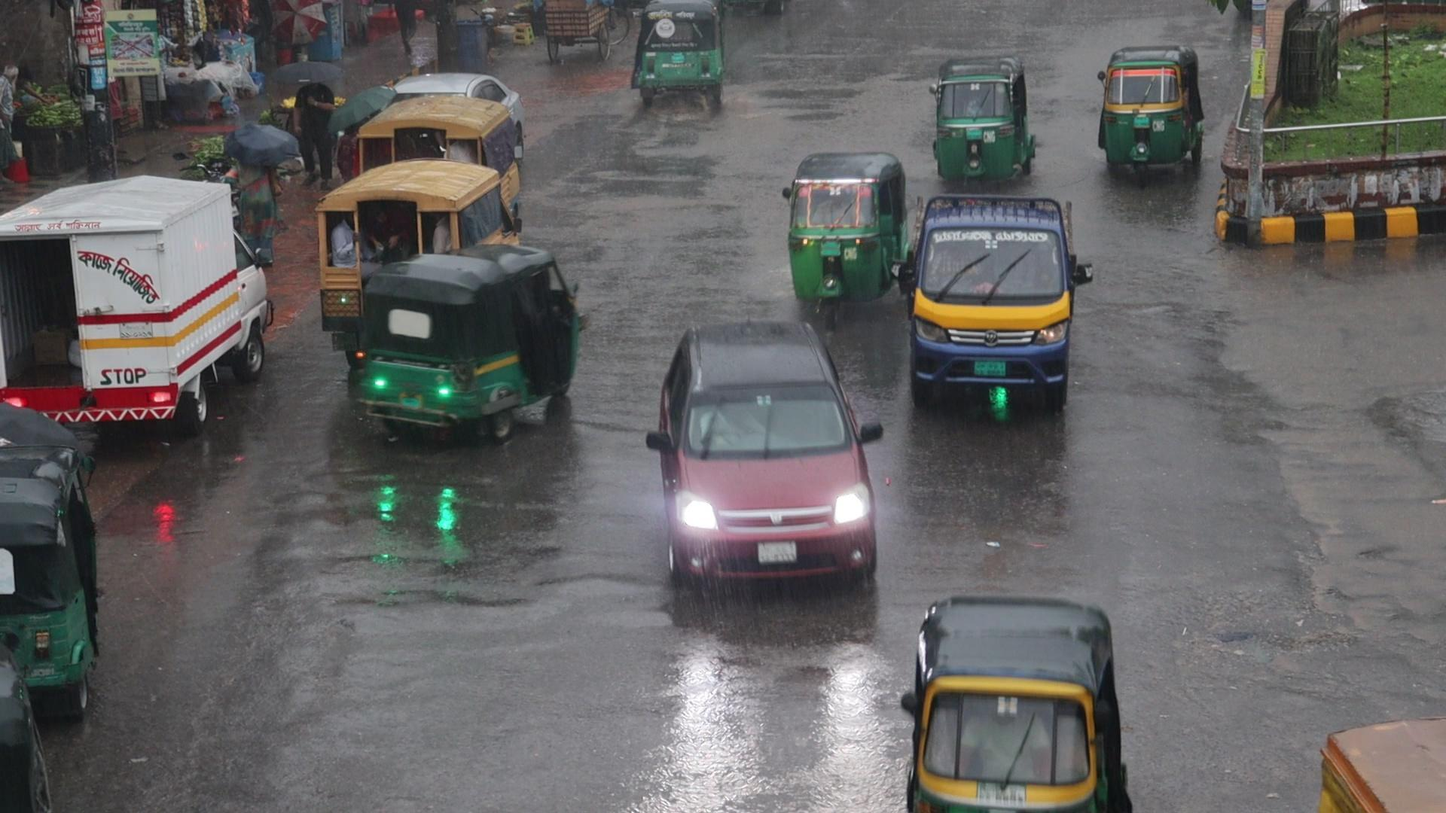Car: (645, 318, 884, 599)
Truck: (907, 183, 1092, 403)
